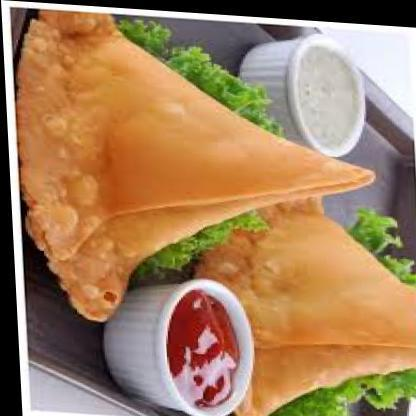samosa: (10, 7, 379, 334), (187, 184, 416, 416)
